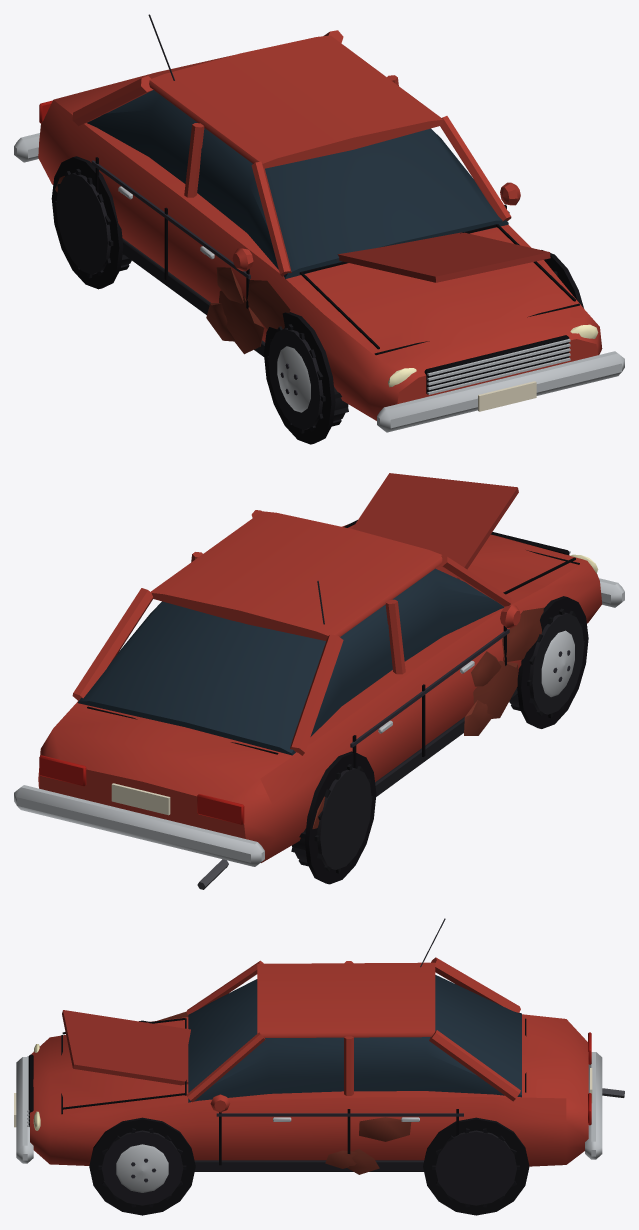
Rendered from car.glb.
3 views of the same model, one above another, from view 1: azimuth 30°, elevation 25°; view 2: azimuth 150°, elevation 25°; view 3: azimuth 270°, elevation 25° (orthographic). The views are drawn at different scales.
Parts seen in each view (by area): view 1: car; view 2: car; view 3: car.
Part boxes in pixels (x1=…): car: x1=14, y1=14, x2=624, y2=444; car: x1=14, y1=473, x2=624, y2=889; car: x1=14, y1=918, x2=624, y2=1215.
Size of the model in its own units: 2.06 by 1.92 by 4.94.
